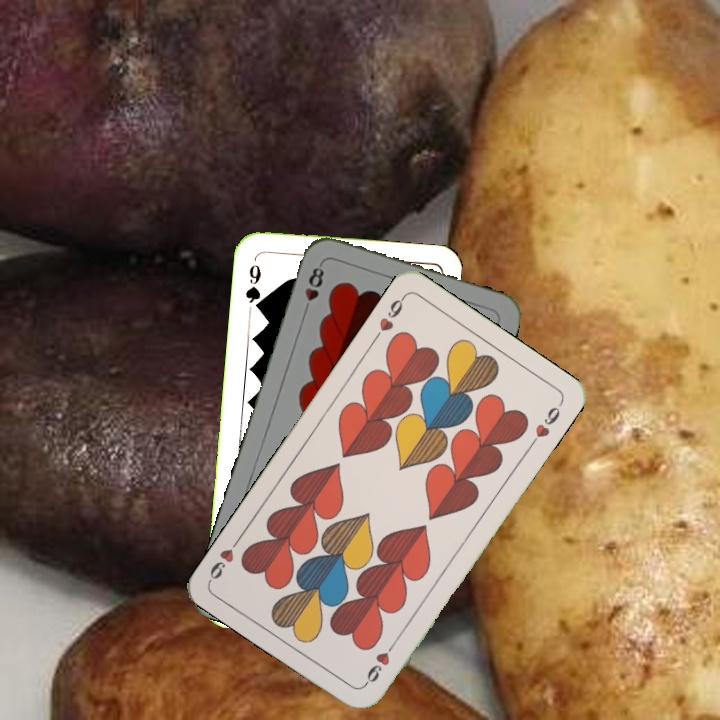G9: (241, 260, 264, 314)
H8: (299, 259, 327, 317)
H9: (369, 291, 408, 343), (360, 636, 399, 688)
